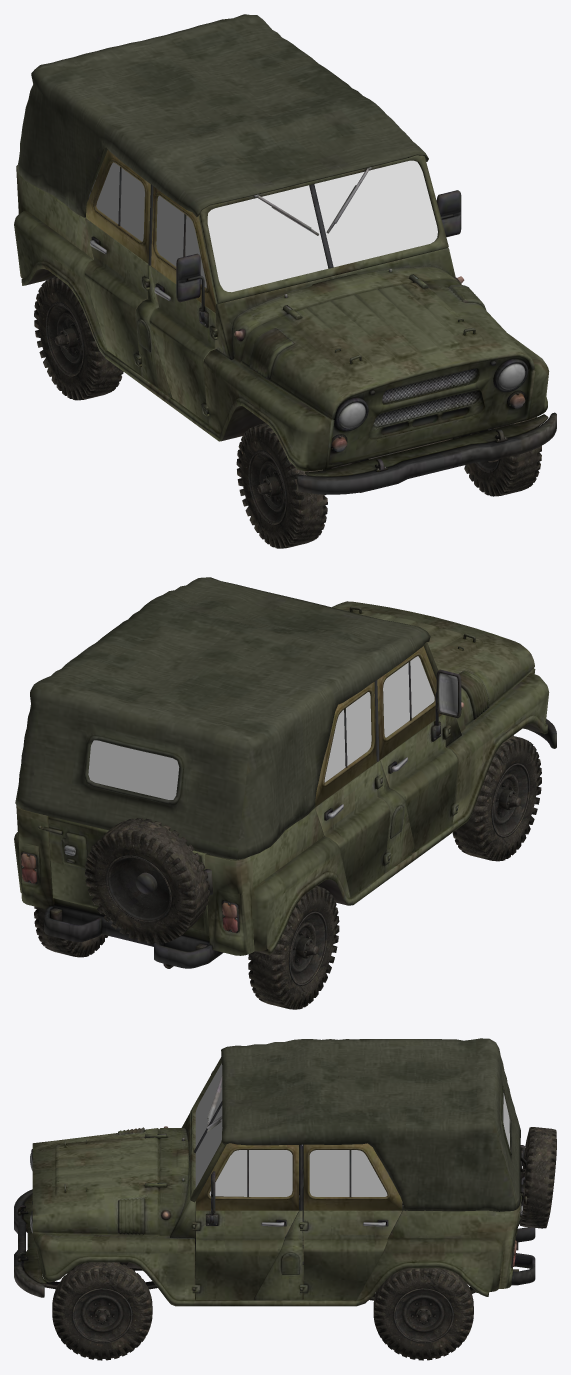
Rendered from uaz.glb.
3 views of the same model, one above another, from view 1: azimuth 30°, elevation 25°; view 2: azimuth 150°, elevation 25°; view 3: azimuth 270°, elevation 25° (orthographic). The views are drawn at different scales.
Parts seen in each view (by area): view 1: u469 low tex.003_0, object 7, u wheel.002_0, u wheel.001_0, u wheel_0; view 2: u469 low tex.003_0, u wheel.005_0, object 7, u wheel.001_0, u wheel.002_0, u wheel.004_0; view 3: u469 low tex.003_0, object 7, u wheel_0, u wheel.004_0, u wheel.005_0.
Boxes of the visible parts, left/top/right/bottom form: u469 low tex.003_0: left=14, top=14, right=556, bottom=494; object 7: left=96, top=160, right=437, bottom=292; u wheel.002_0: left=236, top=423, right=327, bottom=548; u wheel.001_0: left=34, top=276, right=123, bottom=400; u wheel_0: left=464, top=417, right=541, bottom=496; u469 low tex.003_0: left=14, top=577, right=556, bottom=968; u wheel.005_0: left=85, top=818, right=209, bottom=944; object 7: left=88, top=656, right=434, bottom=799; u wheel.001_0: left=248, top=886, right=339, bottom=1009; u wheel.002_0: left=452, top=736, right=541, bottom=861; u wheel.004_0: left=34, top=906, right=107, bottom=957; u469 low tex.003_0: left=14, top=1038, right=535, bottom=1306; object 7: left=195, top=1063, right=509, bottom=1196; u wheel_0: left=52, top=1262, right=152, bottom=1360; u wheel.004_0: left=373, top=1268, right=473, bottom=1360; u wheel.005_0: left=519, top=1127, right=556, bottom=1228.
Bounding box in the file's own units: 1.93 × 1.93 × 4.03.
Materials: 3 (2 with a texture image).
